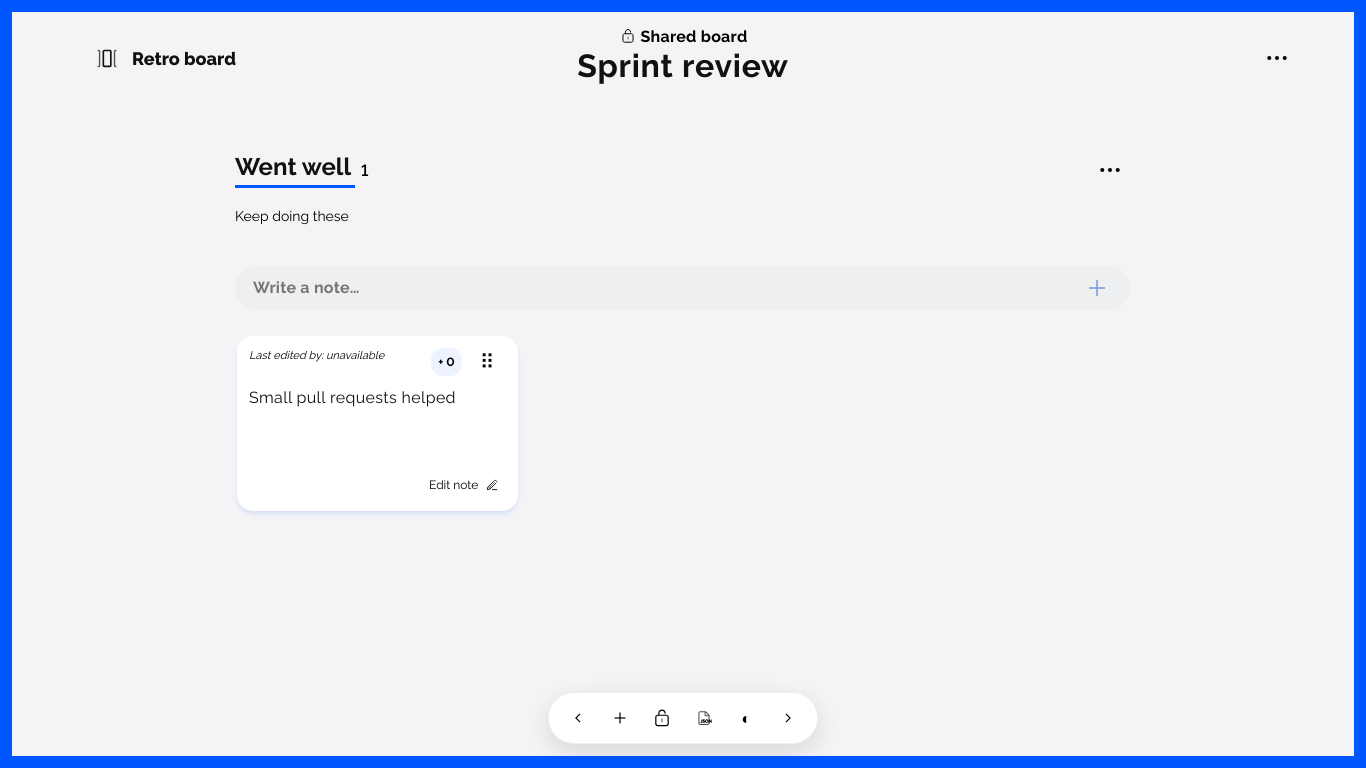
clears an accepted note and suppresses repeated pending submits
Type "One note" into the text box named "Add note to Went well". click: (665,288)
box: [253,268,1077,308]
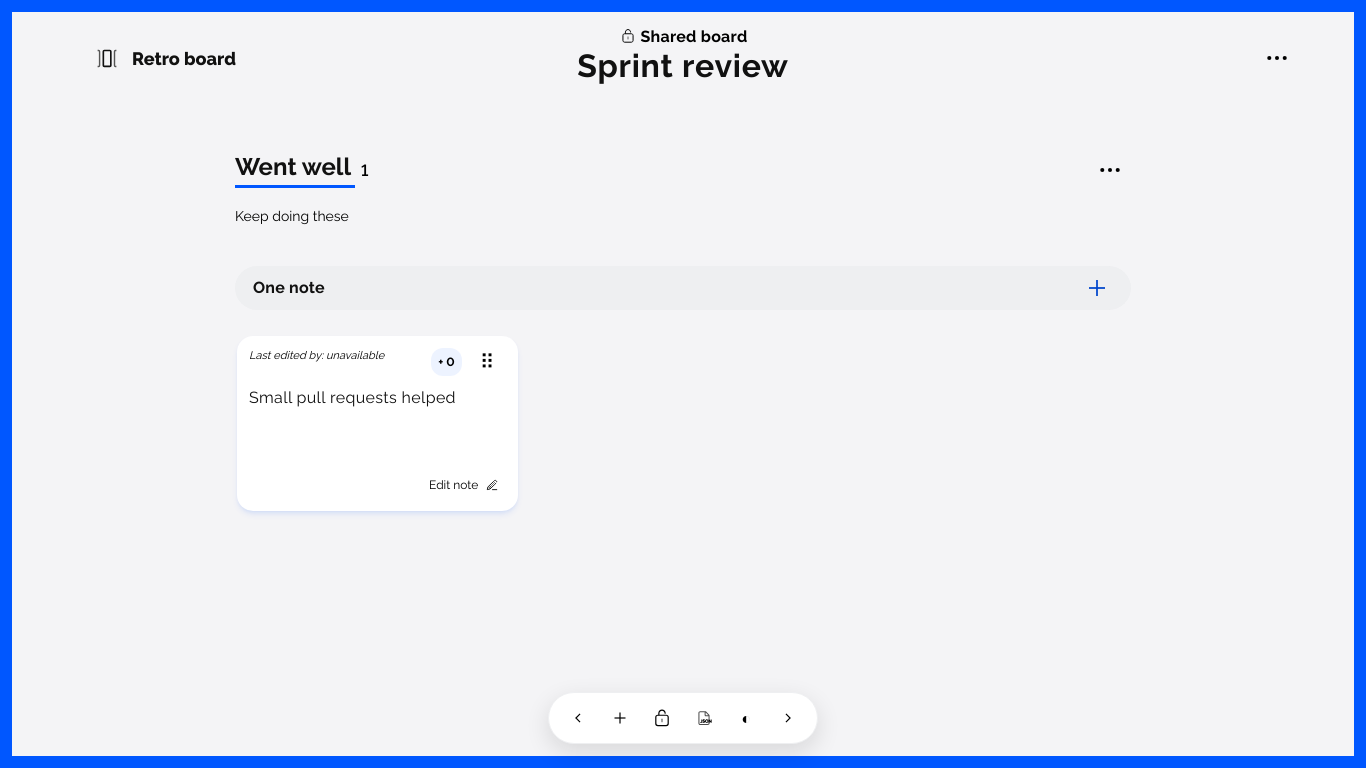
Click the button named "Create note in Went well". click: (1097,288)
box: [1081,268,1113,308]
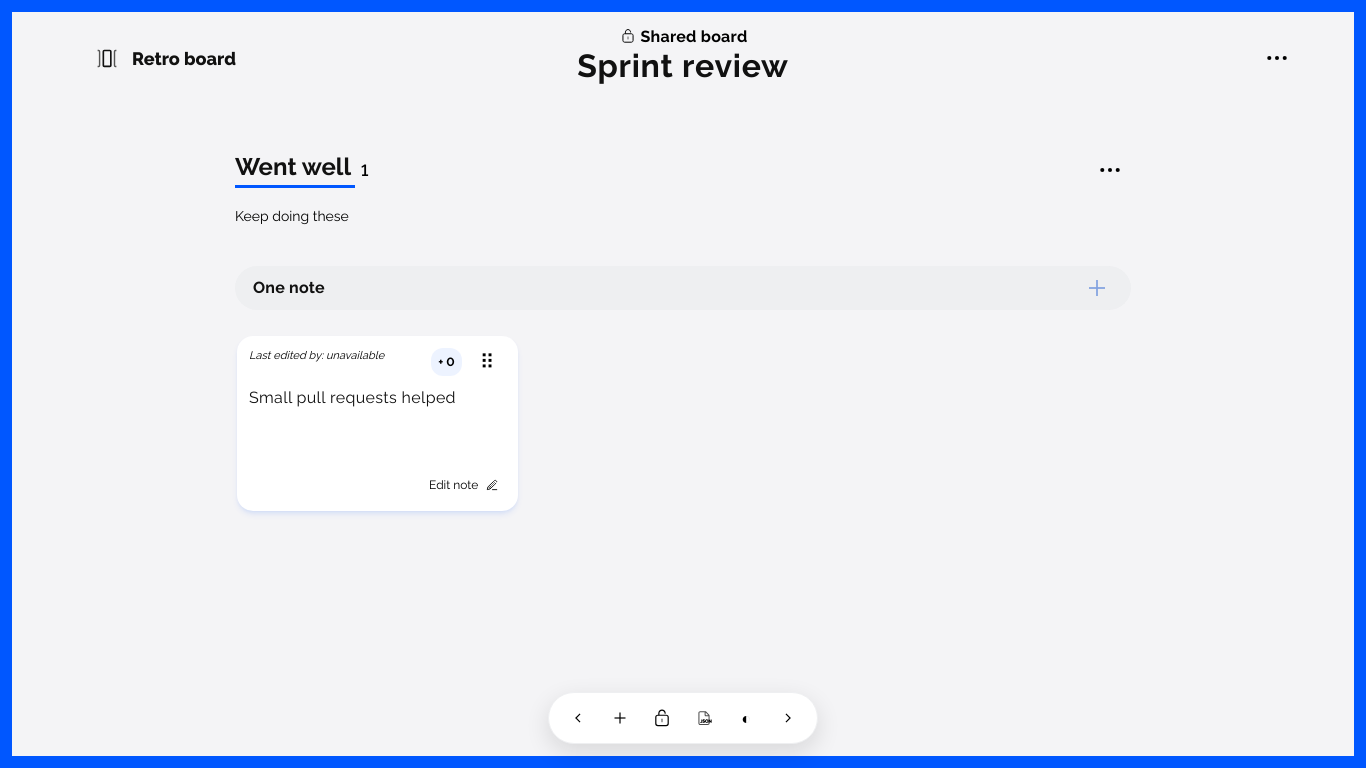
Click the button named "Create note in Went well". click: (1097,288)
box: [1081,268,1113,308]
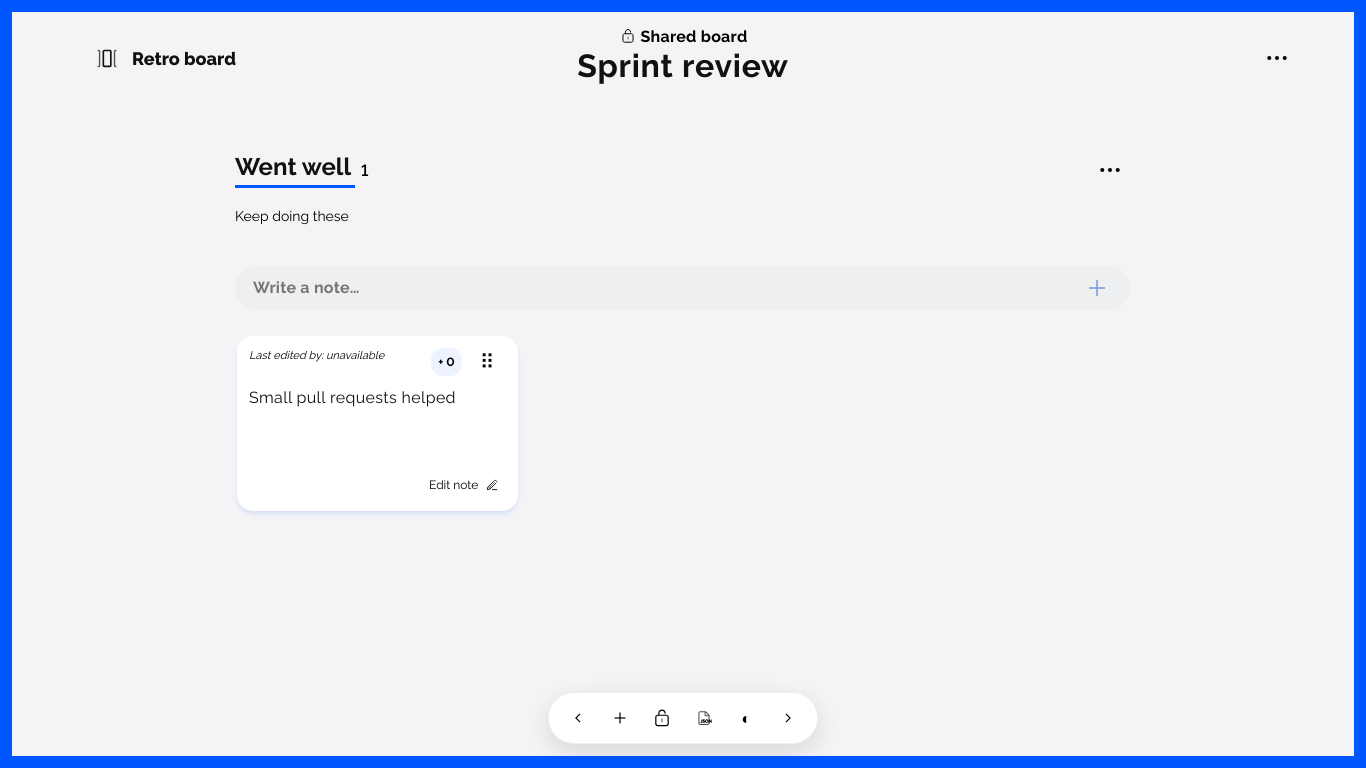
Expected: the button named "Create note in Went well" is disabled, [1081,268,1113,308]
Expected: the text box named "Add note to Went well" is empty, [253,268,1077,308]
